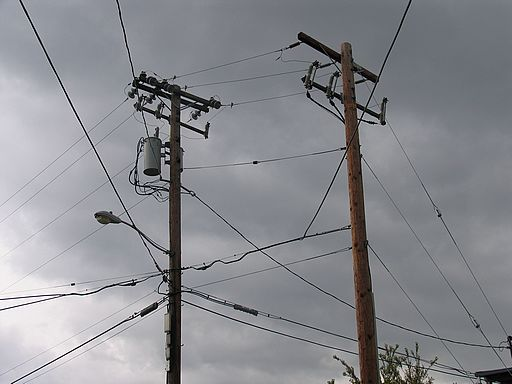utility_pole: (118, 54, 231, 207), (285, 22, 394, 142)
